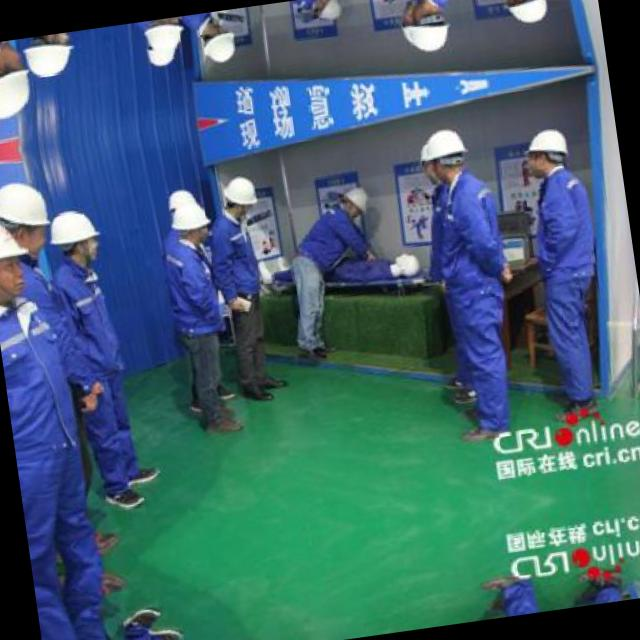helmet: (0, 172, 53, 261), (44, 203, 110, 269), (520, 120, 580, 185), (20, 31, 84, 82), (0, 211, 34, 306), (0, 39, 35, 128), (421, 122, 470, 182), (403, 0, 452, 56), (168, 201, 212, 248), (497, 0, 558, 29), (219, 171, 258, 215), (198, 22, 237, 66), (142, 16, 186, 50), (413, 138, 442, 186), (339, 180, 373, 220), (394, 0, 423, 46), (164, 186, 200, 219), (143, 34, 179, 67), (312, 0, 347, 26)
